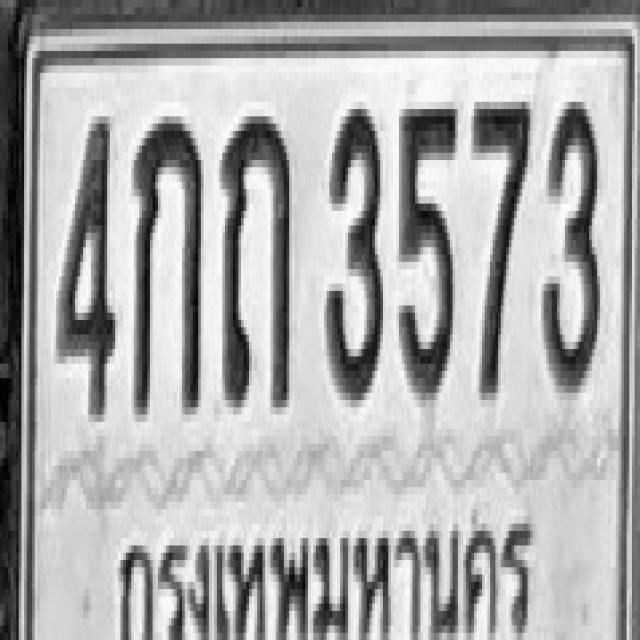10GorGai: (131, 109, 201, 415)
3: (324, 102, 383, 400), (541, 95, 600, 392)
31ThorThung: (219, 109, 292, 407)
4: (56, 109, 115, 415)
5: (398, 102, 457, 400)
7: (472, 95, 530, 400)
Bangkok: (109, 507, 537, 640)
